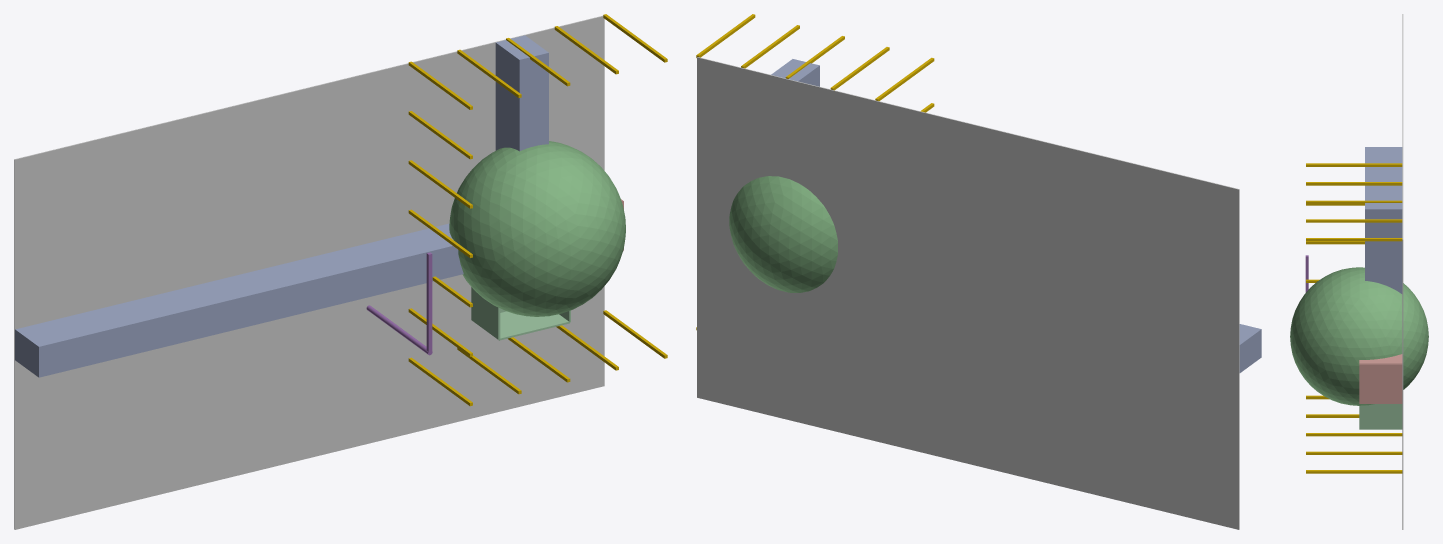
File: cell_layout_v0.glb
3 renders of one model, left to right at view 1: azimuth 30°, elevation 25°; view 2: azimuth 150°, elevation 25°; view 3: azimuth 270°, elevation 25°, orthographic. The views are drawn at different scales.
Visible parts, largest first — view 1: floor, reach_envelope, conveyor_A, conveyor_B, cage_d_wall1, cage_d_wall3; view 2: floor, reach_envelope, conveyor_A, conveyor_B; view 3: reach_envelope, conveyor_B, cage_c_wall2, conveyor_A, cage_d_wall2, floor, fence_5, fence_1, fence_3, fence_7, fence_8, fence_4 (+5 smaller).
Boxes of the visible parts, x1=… form: floor: x1=14, y1=15, x2=604, y2=529; reach_envelope: x1=449, y1=141, x2=625, y2=316; conveyor_A: x1=15, y1=223, x2=463, y2=377; conveyor_B: x1=495, y1=35, x2=548, y2=151; cage_d_wall1: x1=499, y1=311, x2=569, y2=340; cage_d_wall3: x1=471, y1=287, x2=500, y2=339; floor: x1=697, y1=57, x2=1239, y2=529; reach_envelope: x1=729, y1=176, x2=837, y2=292; conveyor_A: x1=1239, y1=324, x2=1261, y2=372; conveyor_B: x1=771, y1=59, x2=819, y2=86; reach_envelope: x1=1290, y1=267, x2=1428, y2=405; conveyor_B: x1=1365, y1=198, x2=1402, y2=293; cage_c_wall2: x1=1359, y1=364, x2=1402, y2=403; conveyor_A: x1=1365, y1=147, x2=1402, y2=197; cage_d_wall2: x1=1359, y1=404, x2=1402, y2=429; floor: x1=1402, y1=14, x2=1403, y2=529; fence_5: x1=1306, y1=200, x2=1402, y2=204; fence_1: x1=1306, y1=163, x2=1402, y2=166; fence_3: x1=1306, y1=182, x2=1402, y2=185; fence_7: x1=1306, y1=219, x2=1402, y2=222; fence_8: x1=1306, y1=470, x2=1402, y2=473; fence_4: x1=1306, y1=433, x2=1402, y2=436.
Bounding box in the file's own units: 10025 × 6025 × 2600.
